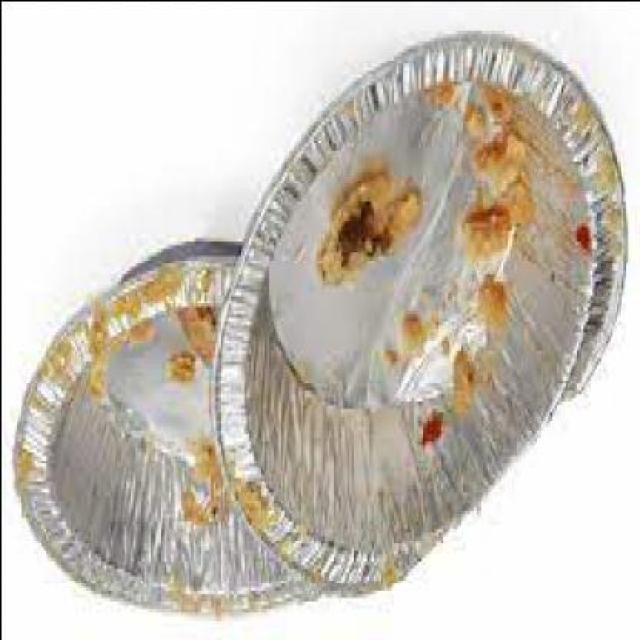BIODEGRADABLE: (315, 178, 416, 294), (432, 87, 517, 196), (464, 178, 522, 258), (180, 302, 212, 364), (444, 346, 473, 411), (475, 276, 502, 335), (391, 316, 422, 356), (165, 348, 189, 382)
METAL: (208, 40, 624, 597), (8, 244, 344, 622)
